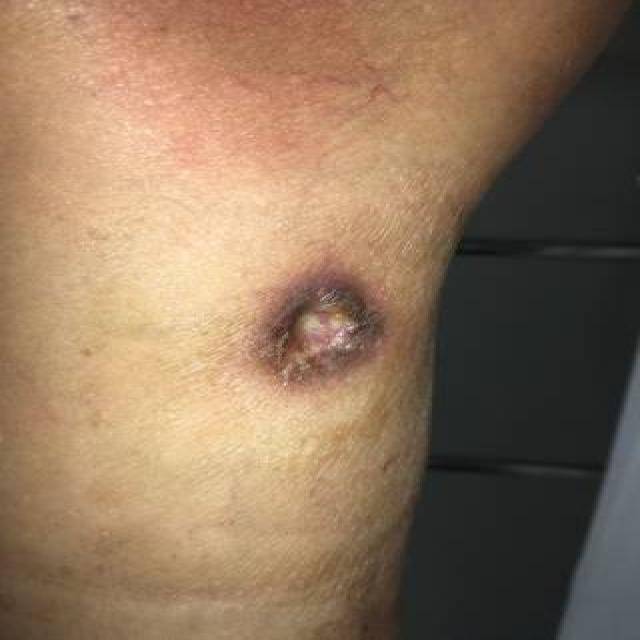DTI: (250, 268, 384, 383)
